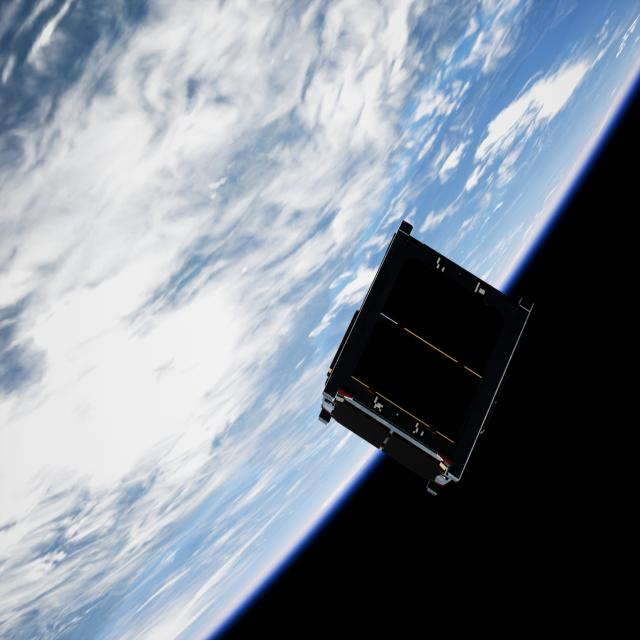medium_debris: (314, 217, 541, 503)
